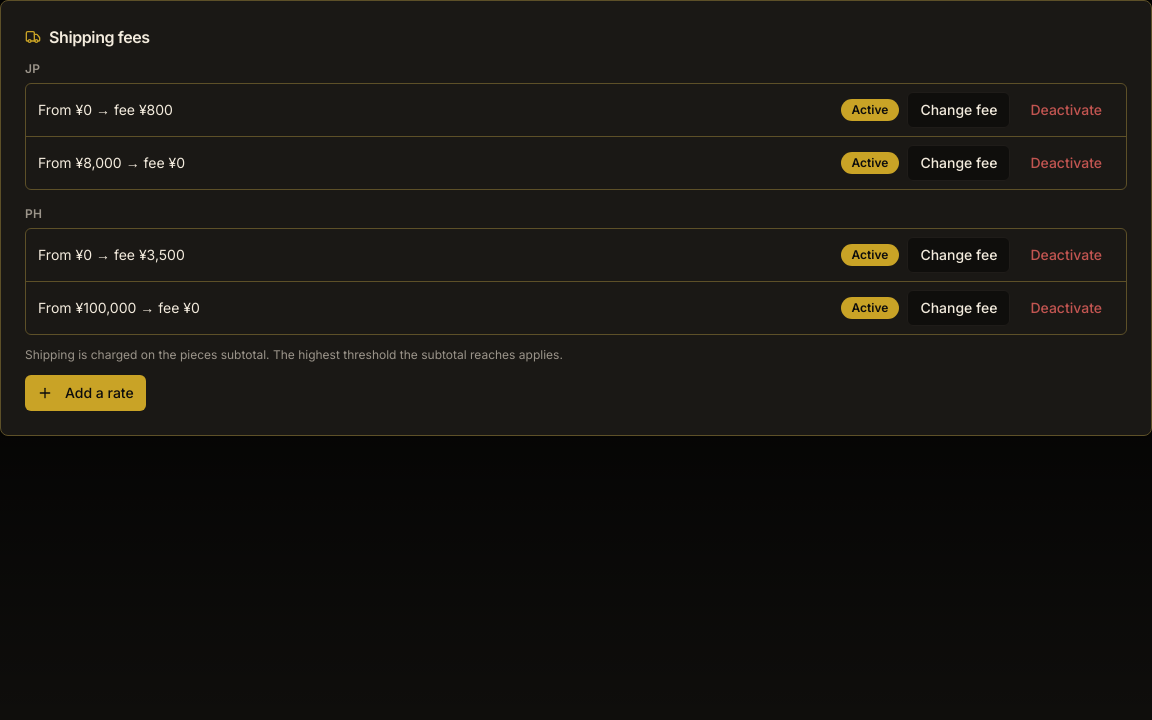
ShippingFeesCard › deactivates through deactivate_shipping_rate after a confirm — never a delete
Later steps or results of the test are not shown.
Expected: the text "From ¥8,000 → fee ¥0" is shown, left=38, top=153, right=185, bottom=173
Click the button "Deactivate" in the row of "From ¥8,000 → fee ¥0" at (1066,163), box left=1018, top=145, right=1114, bottom=181
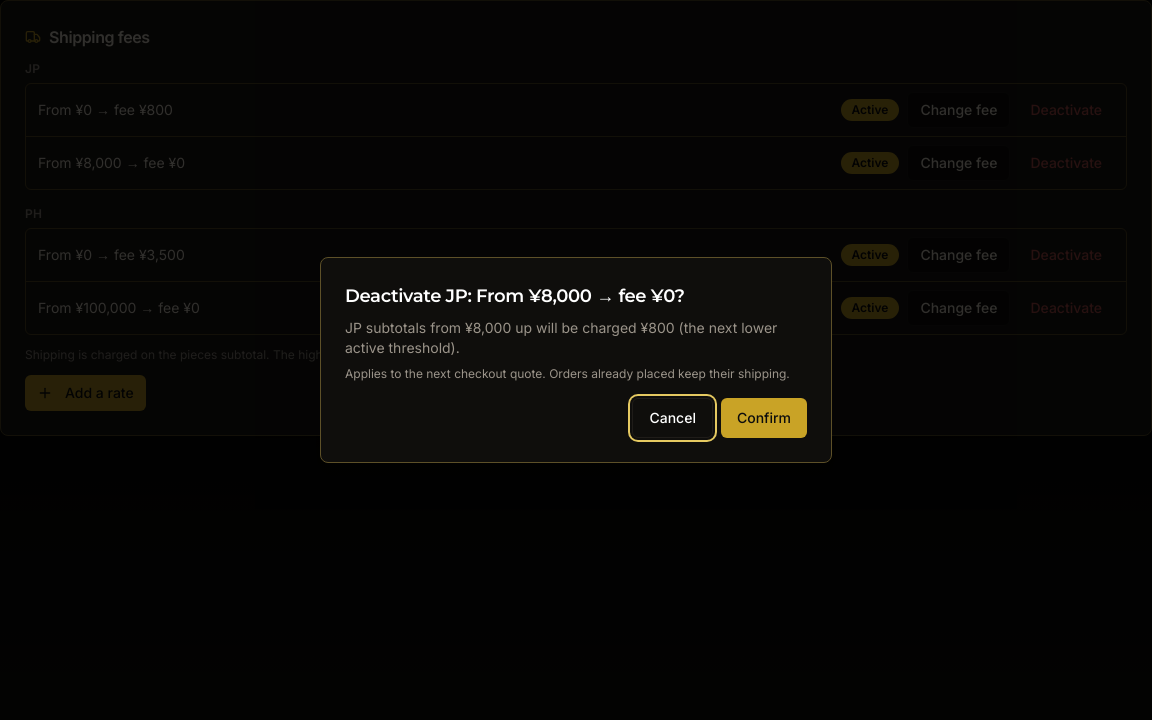
Result: the element with test id "shipping-rate-confirm" shows "will be charged ¥800" at left=345, top=319, right=777, bottom=356
